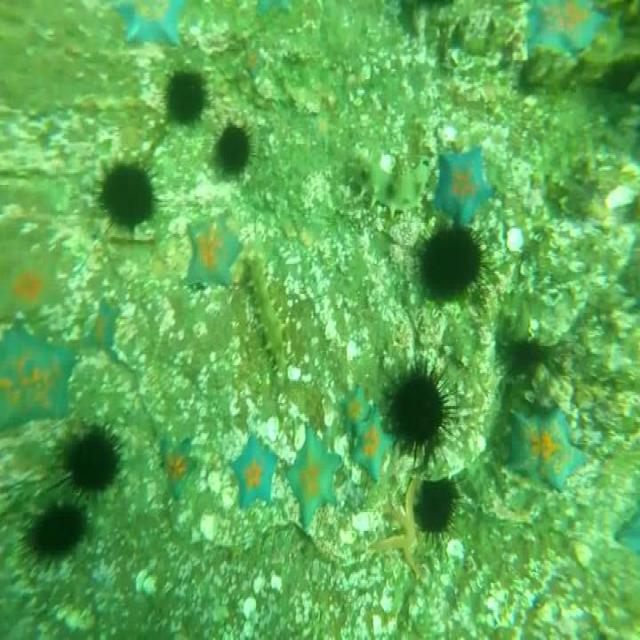echinus: (378, 365, 457, 460), (417, 220, 488, 300), (95, 150, 155, 231), (20, 500, 88, 564), (62, 431, 124, 498), (419, 479, 464, 545), (162, 68, 209, 123), (217, 124, 248, 176)
holothurian: (343, 144, 427, 218), (241, 258, 289, 376)
scallop: (604, 185, 640, 212), (134, 569, 158, 597), (199, 515, 222, 539), (505, 228, 526, 250), (351, 510, 372, 531), (242, 596, 258, 619), (207, 474, 222, 495), (267, 417, 280, 439), (346, 336, 358, 356)
starfish: (9, 324, 75, 435), (511, 404, 587, 492), (288, 425, 343, 525), (435, 145, 494, 223), (186, 214, 242, 296), (8, 236, 66, 312), (234, 434, 277, 514), (116, 0, 186, 44), (351, 416, 396, 480), (162, 438, 196, 488), (86, 302, 121, 348), (345, 387, 370, 428)
